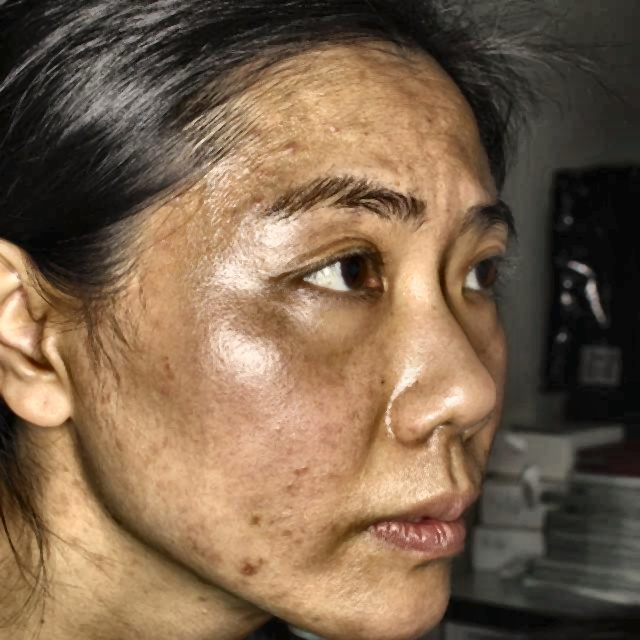comedone: (238, 549, 272, 598), (273, 131, 308, 177)
